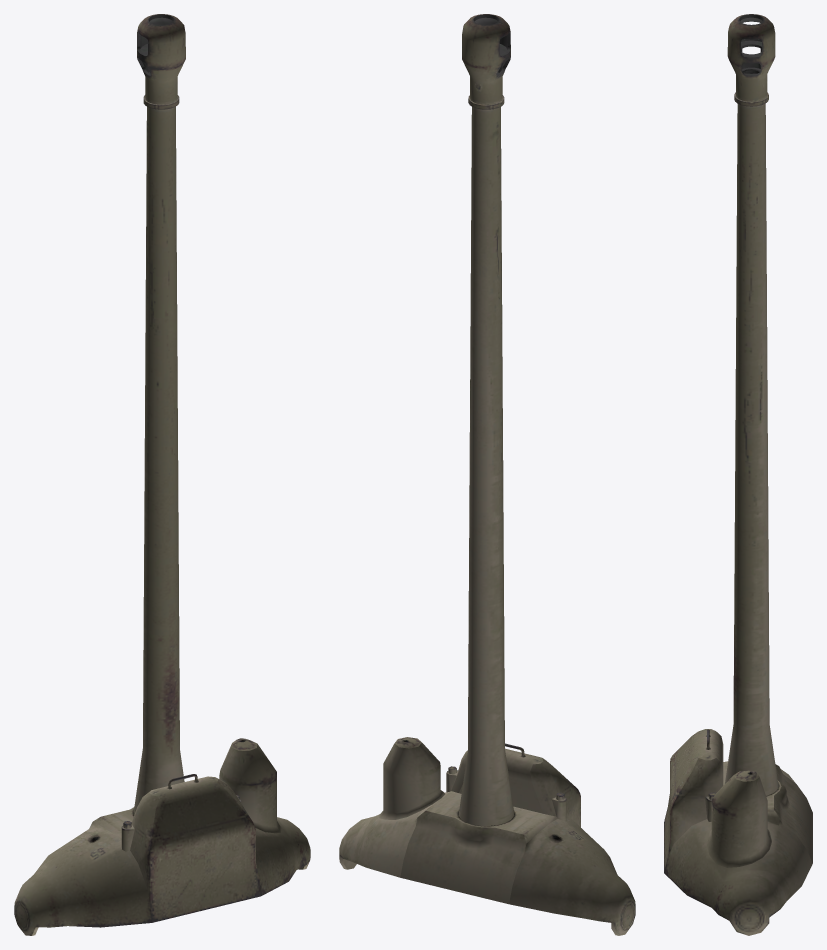
The model's file is Gun_01.glb.
3 views of the same model, side by side, from view 1: azimuth 30°, elevation 25°; view 2: azimuth 150°, elevation 25°; view 3: azimuth 270°, elevation 25° (orthographic). The views are drawn at different scales.
Visible parts, largest first — view 1: set_0_group_0; view 2: set_0_group_0; view 3: set_0_group_0.
Boxes of the visible parts, bbox=[...] form: set_0_group_0: bbox=[14, 14, 310, 935]; set_0_group_0: bbox=[339, 14, 635, 935]; set_0_group_0: bbox=[664, 14, 812, 935].
Size of the model in its own units: 1.28 by 3.84 by 0.6081.
Materials: 1 (1 with a texture image).
